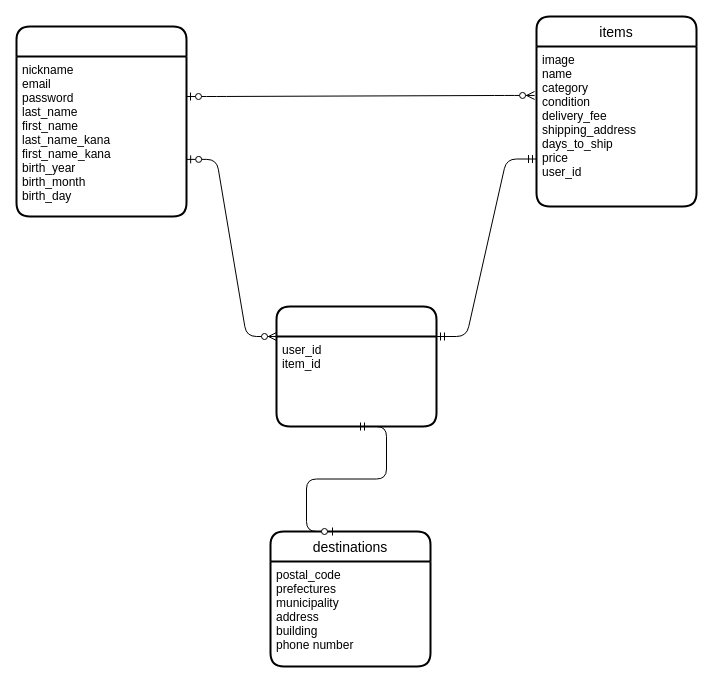
This 713x683 diagram has some shape labels left out. The box of each missing label's shape, as (x1, y1, x2, y2) in pixels:
orders: (275, 305, 437, 427)
users: (15, 25, 187, 217)
